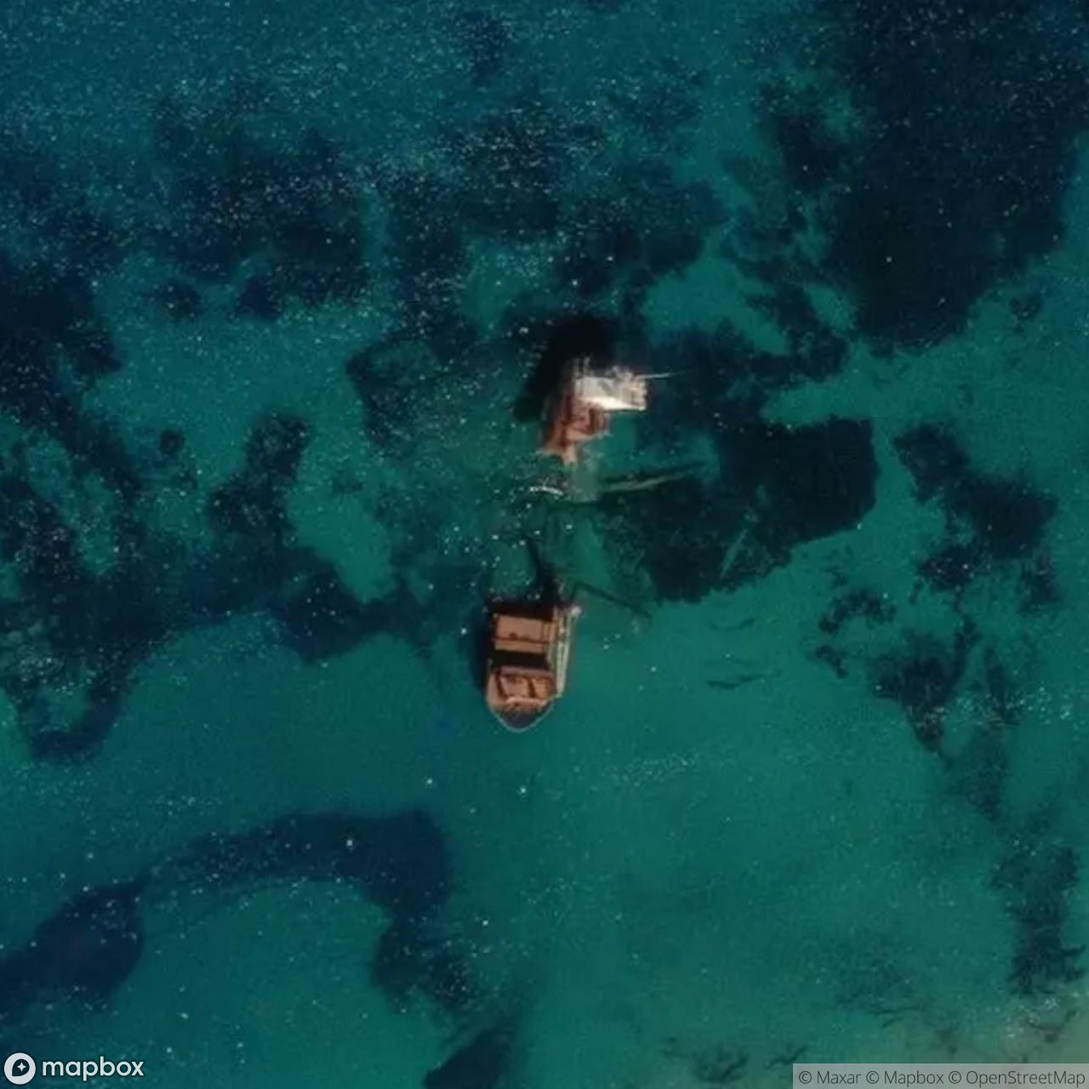Wreck: (438, 331, 671, 752)
